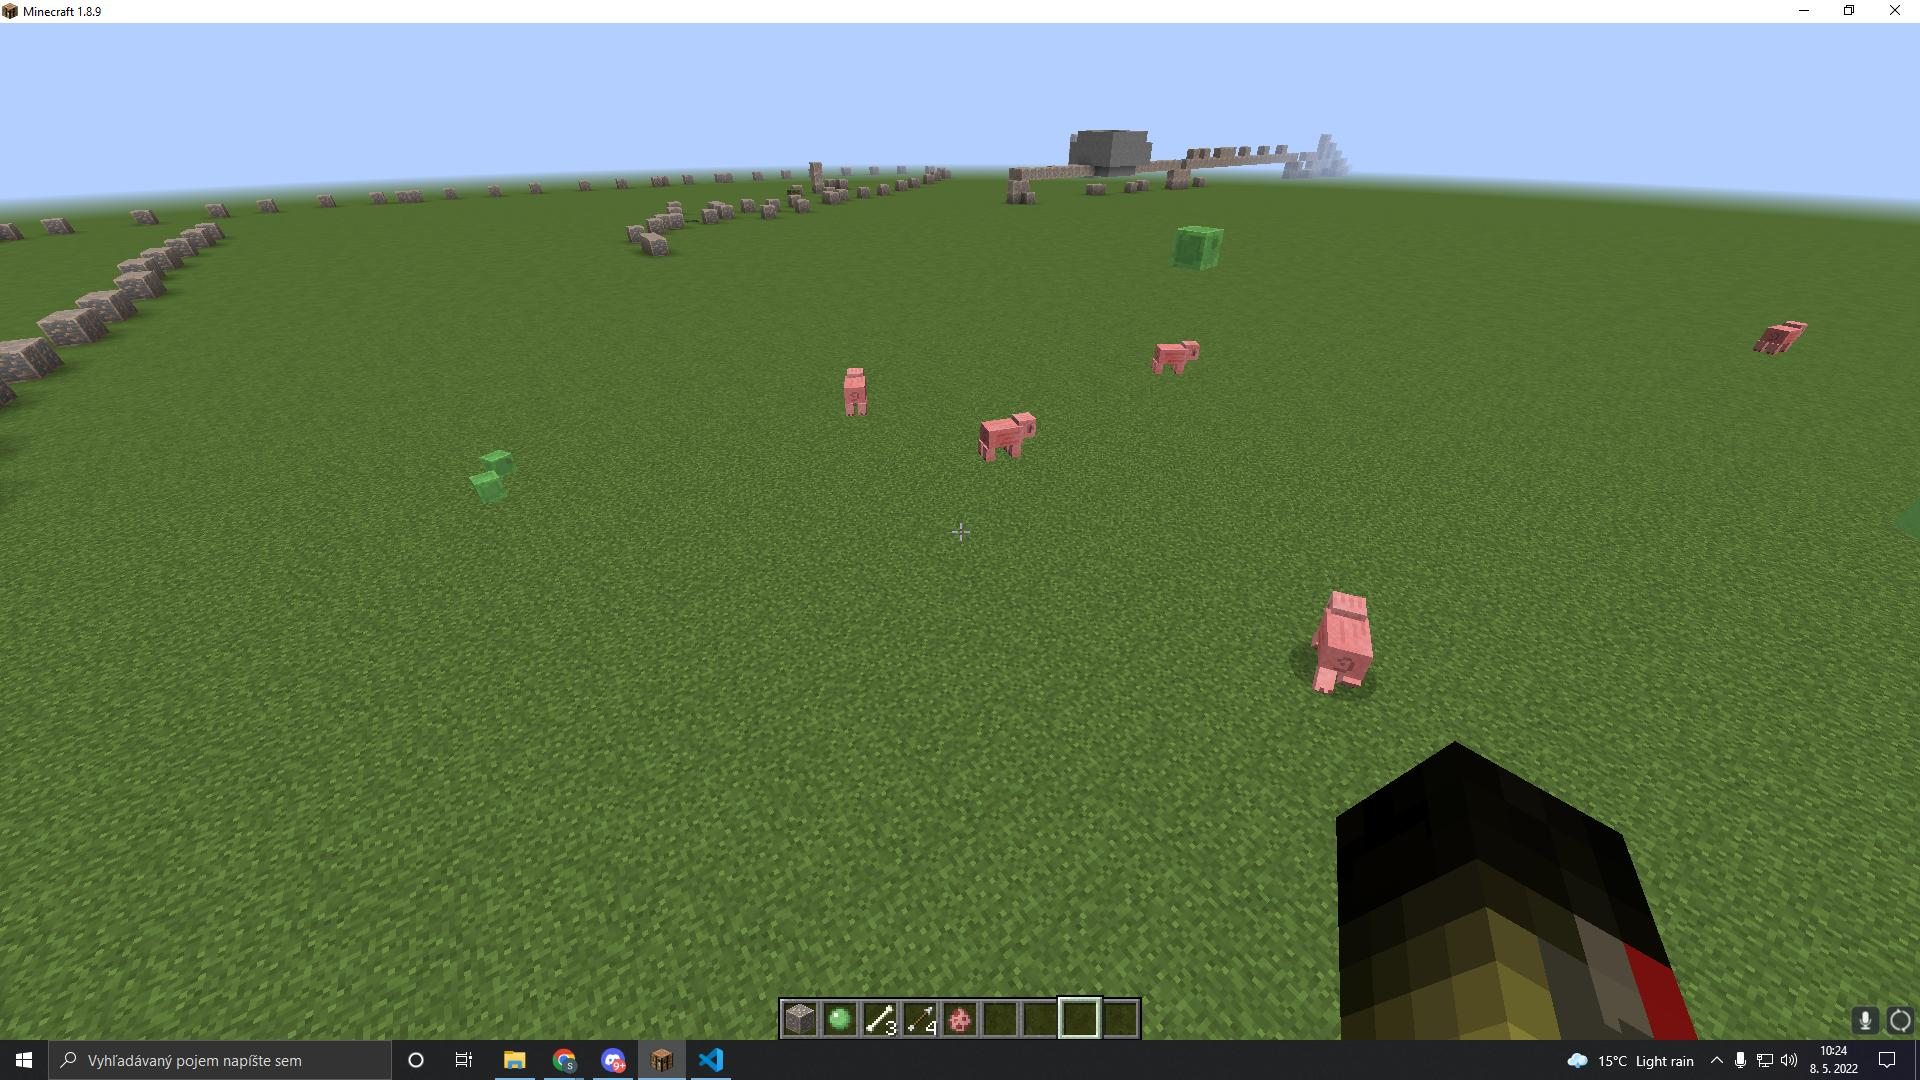pig: (1303, 582, 1396, 721), (963, 400, 1050, 475), (1139, 318, 1216, 393), (823, 353, 889, 422), (1749, 315, 1812, 364)
